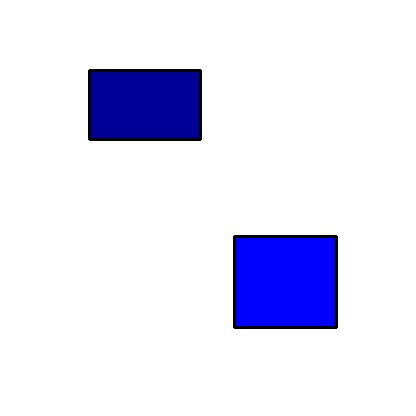rectangle: (234, 236, 336, 327), (89, 70, 200, 139)
